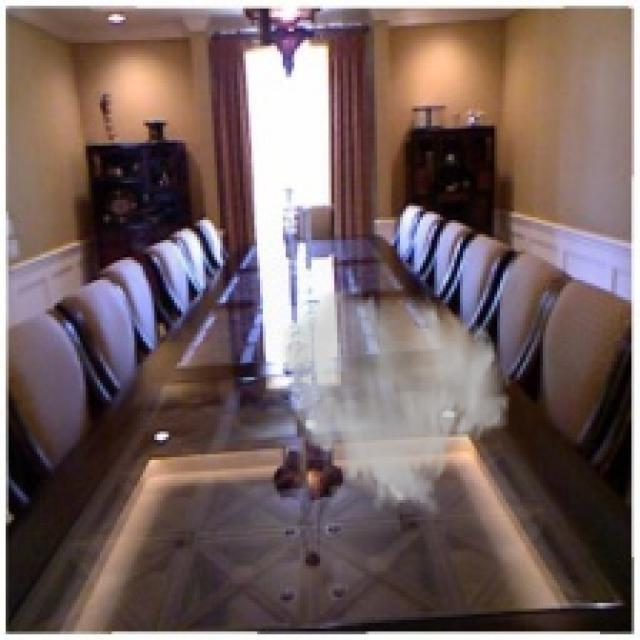Smoke: (280, 283, 514, 520)
